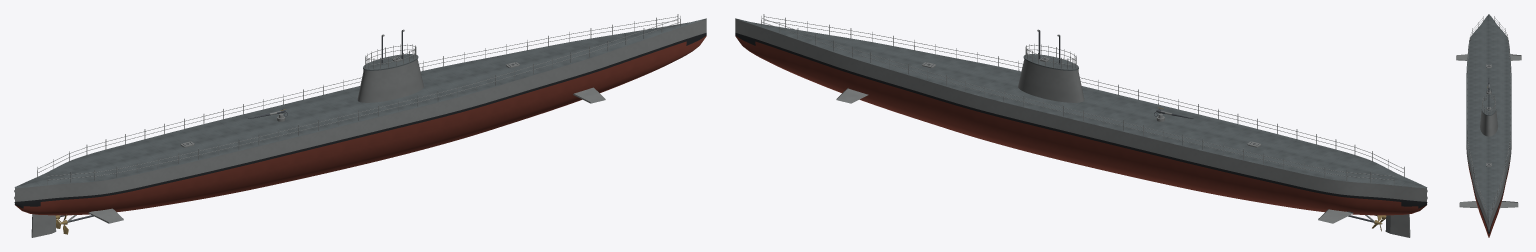
The model's file is kaichu.glb.
3 renders of one model, left to right at view 1: azimuth 30°, elevation 25°; view 2: azimuth 150°, elevation 25°; view 3: azimuth 270°, elevation 25°, orthographic. The views are drawn at different scales.
Parts seen in each view (by area): view 1: Kaichu type; view 2: Kaichu type; view 3: Kaichu type.
Boxes of the visible parts, x1,y1,x2,y2 form: Kaichu type: (14, 14, 706, 237); Kaichu type: (735, 14, 1427, 237); Kaichu type: (1456, 14, 1521, 237).
Size of the model in its own units: 69.19 by 11.52 by 9.06.
Materials: 6 (6 with a texture image).
